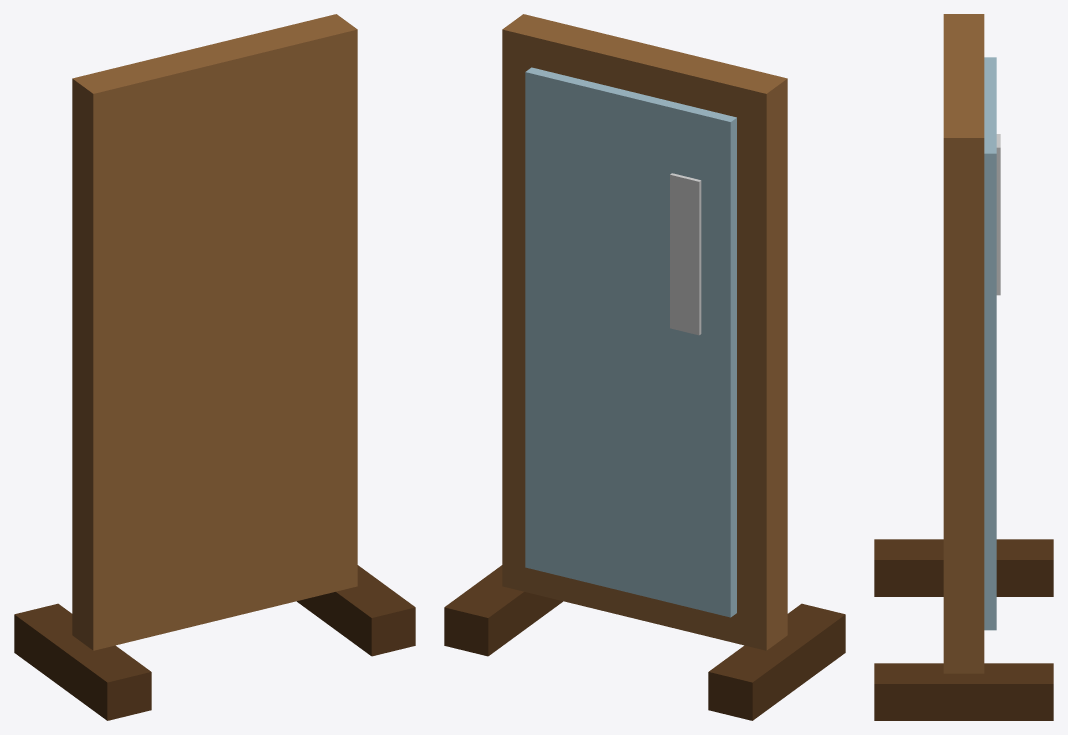
The model's file is cp-mirror.glb.
The picture shows the model from 3 angles, left to right: view 1: azimuth 30°, elevation 25°; view 2: azimuth 150°, elevation 25°; view 3: azimuth 270°, elevation 25°; orthographic projection. The views are drawn at different scales.
Visible parts, largest first — view 1: box-prop; view 2: box-prop; view 3: box-prop.
Part boxes in pixels (x1,y1,x2,y2): box-prop: (14,14,415,720); box-prop: (444,14,845,720); box-prop: (874,14,1053,720).
Bounding box in the file's own units: 0.84 × 1.55 × 0.44.
